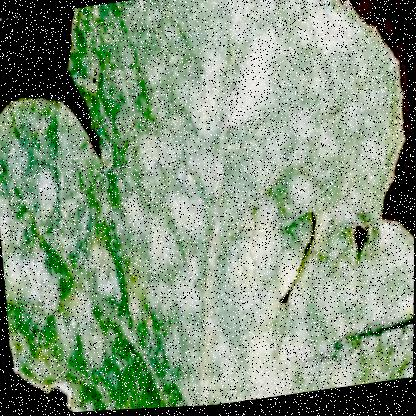PowderyMildew: (79, 155, 362, 412), (95, 0, 333, 254)
